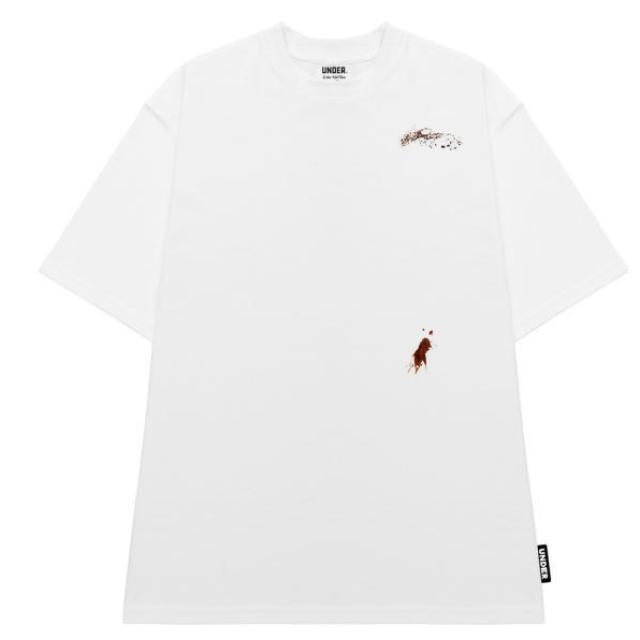stain: (393, 122, 465, 164), (402, 319, 444, 381)
